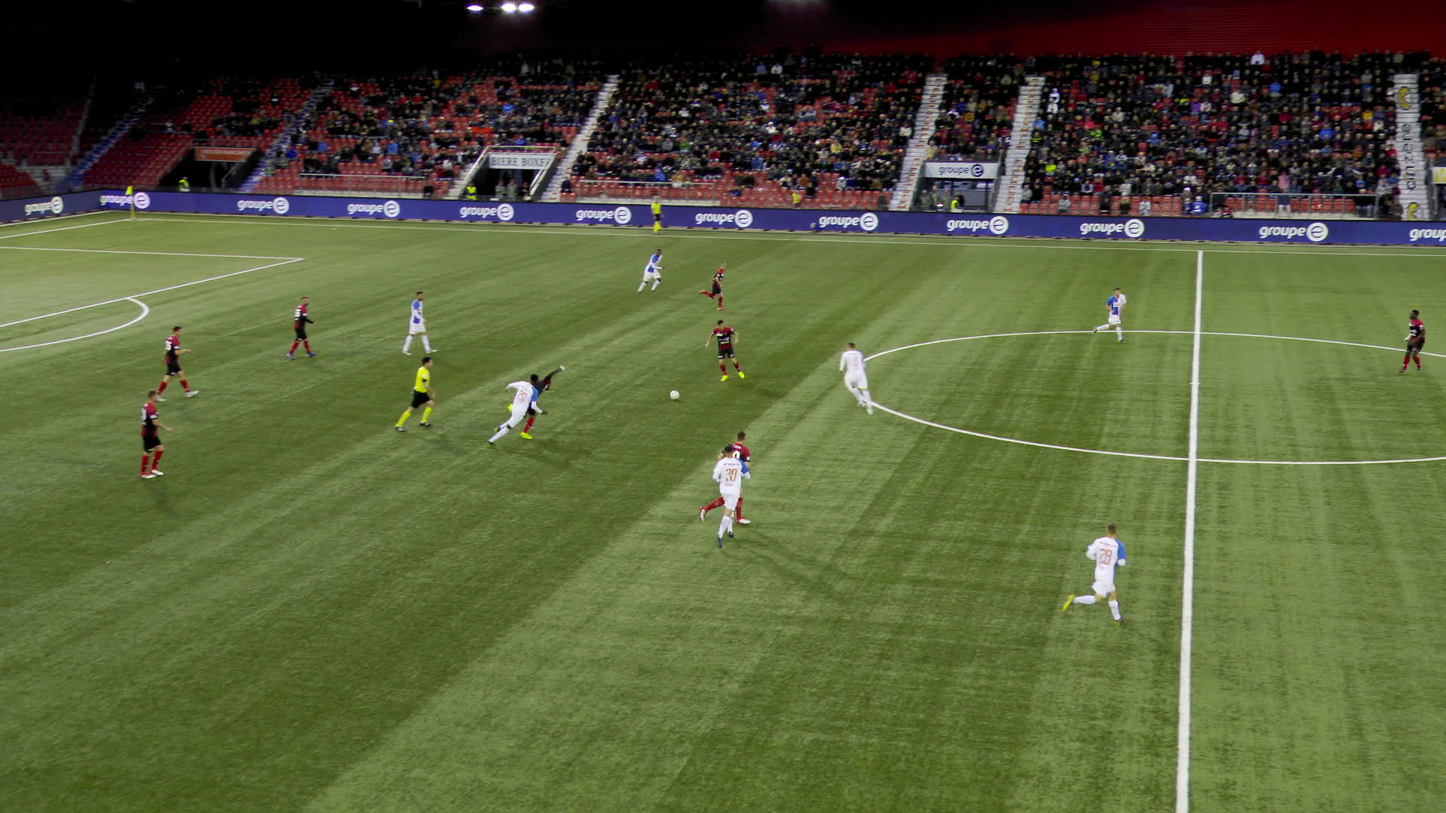ball: (668, 389, 678, 399)
player: (1062, 519, 1124, 626), (701, 428, 751, 526), (502, 361, 560, 436), (489, 370, 544, 444), (712, 445, 751, 547), (140, 388, 178, 477), (158, 322, 200, 400), (841, 343, 880, 416), (708, 317, 742, 379), (1094, 283, 1130, 341), (406, 288, 435, 355), (293, 293, 320, 359), (694, 258, 731, 306), (1405, 309, 1429, 375), (642, 248, 667, 296)
referee: (401, 349, 441, 431), (654, 195, 667, 233)
